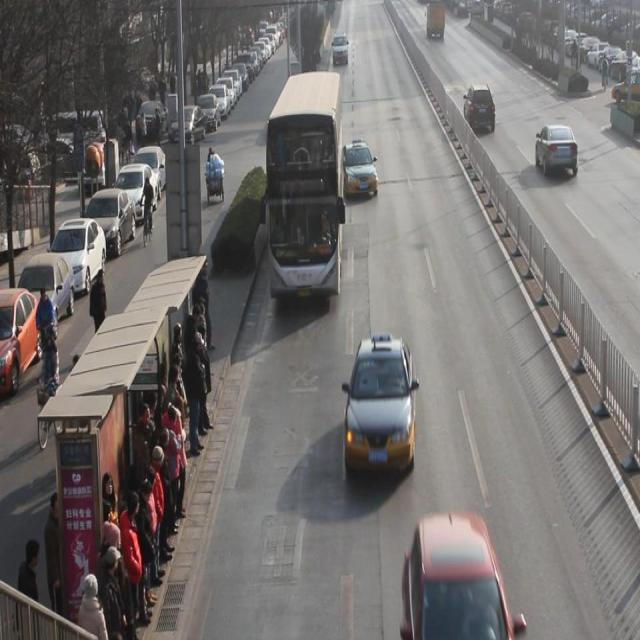car: (404, 512, 516, 640), (346, 335, 417, 473), (537, 123, 580, 178), (341, 142, 380, 198), (465, 85, 497, 134)
van: (267, 70, 342, 296)
